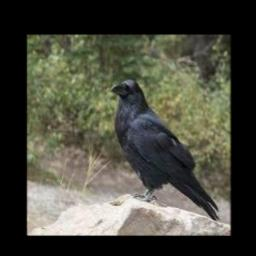Crow: (109, 79, 218, 221)
